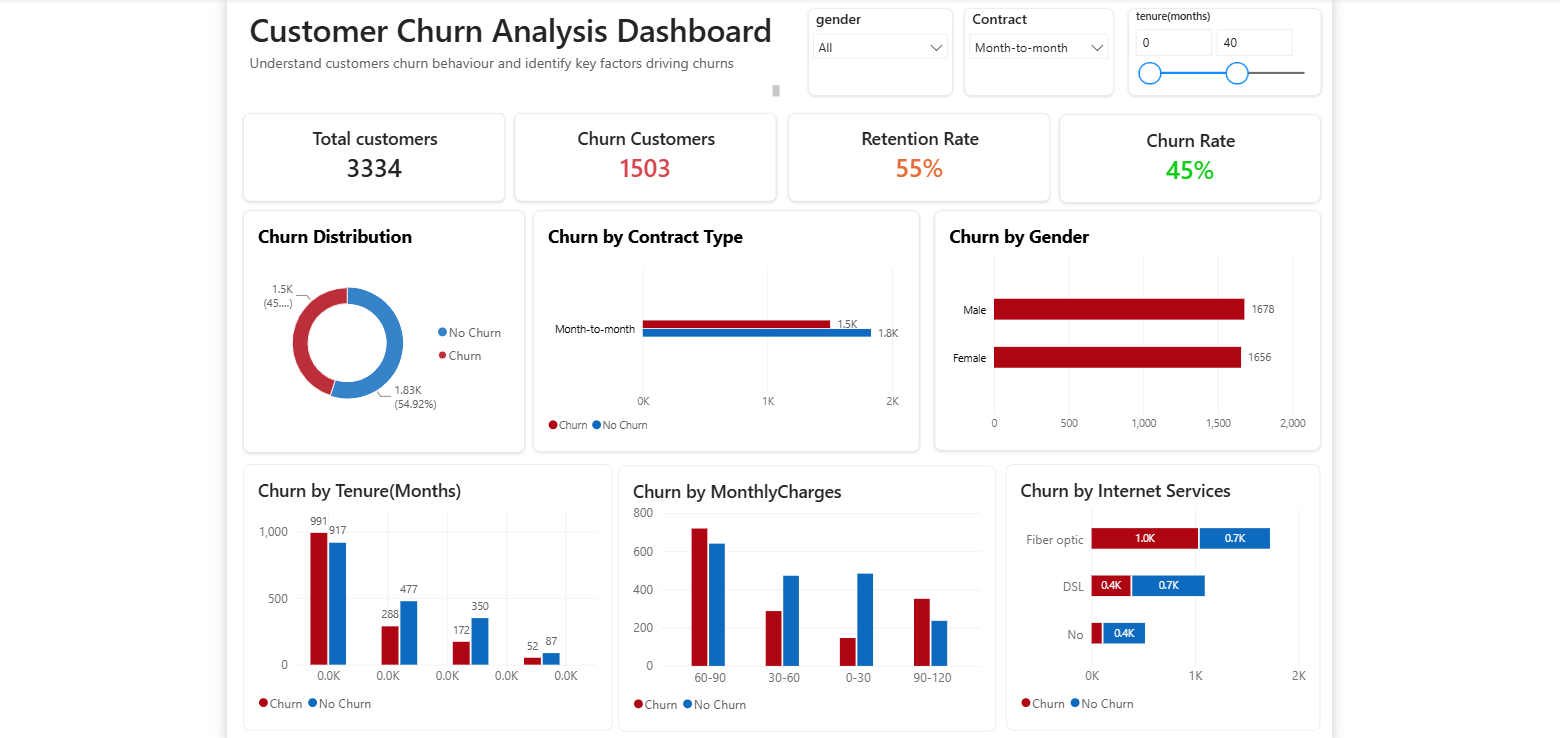

The page's visual inventory and layout, read from the dashboard file:
{"tool":"powerbi","page":{"name":"Page 1","canvas":[1260,850],"ordinal":0},"visuals":[{"type":"donutChart","title":"Churn Distribution","fields":{"Category":["churn_final.Column"],"Y":["CountNonNull(churn_final.customerID)"]},"box":[18.3,241.7,311.7,273.3],"z":0},{"type":"card","title":"Total customers","fields":{"Values":["CountNonNull(churn_final.customerID)"]},"box":[17.9,131.5,298.7,100.6],"z":1000},{"type":"clusteredBarChart","fields":{"Category":["churn_final.Contract"],"Series":["churn_final.Column"],"Y":["CountNonNull(churn_final.customerID)"]},"box":[348.3,241.7,440,275],"z":2000},{"type":"barChart","title":"Churn by Gender","fields":{"Category":["churn_final.gender"],"Y":["CountNonNull(churn_final.customerID)"]},"box":[806.7,241.7,440,273.3],"z":3000},{"type":"textbox","box":[0,0,662.3,61.7],"z":6000},{"type":"lineChart","title":"Churn by Tenure(Months)","fields":{"Category":["churn_final.tenure"],"Series":["churn_final.churn_status"],"Y":["CountNonNull(churn_final.customerID)"]},"box":[17.9,530.8,420.4,303.6],"z":8000},{"type":"areaChart","title":"Churn by MonthlyCharges","fields":{"Category":["churn_final.MonthlyCharges"],"Series":["churn_final.churn_status"],"Y":["CountNonNull(churn_final.customerID)"]},"box":[446.4,532.4,430.2,303.6],"z":9000},{"type":"barChart","title":"Churn by Internet Services","fields":{"Category":["churn_final.InternetService"],"Series":["churn_final.churn_status"],"Y":["churn_final.Measure"]},"box":[888,530.8,358.8,303.6],"z":10000},{"type":"textbox","title":"Customer Churn Analysis Dashboard","box":[26,11.4,603.9,100.6],"z":13000},{"type":"slicer","fields":{"Values":["churn_final.gender"]},"box":[661.7,11.7,165,100],"z":14000},{"type":"slicer","fields":{"Values":["churn_final.Contract"]},"box":[840,11.7,170,100],"z":14001},{"type":"slicer","fields":{"Values":["churn_final.tenure"]},"box":[1026.7,11.7,220,100],"z":14002},{"type":"card","title":"Churn Customers","fields":{"Values":["churn_final.Churn Customers"]},"box":[327.9,131.5,298.7,100.6],"z":14003},{"type":"card","title":"Retention Rate","fields":{"Values":["churn_final.Retention_Rate"]},"box":[639.6,131.5,298.7,100.6],"z":14004},{"type":"card","title":"Churn Rate","fields":{"Values":["churn_final.Churn Rate"]},"box":[948,131.5,298.7,100.6],"z":14005}]}

Visuals, with their boxes on the page's 1260x850 design canvas (x1, y1, x2, y2). These are canvas units, not pixel positions in the 1560x738 screenshot, which may show the page scaled, cropped or inside an application window:
"Churn Distribution" donutChart: detection(18, 242, 330, 515)
"Total customers" card: detection(18, 132, 317, 232)
clusteredBarChart - churn_final.Contract x churn_final.Column: detection(348, 242, 788, 517)
"Churn by Gender" barChart: detection(807, 242, 1247, 515)
textbox: detection(0, 0, 662, 62)
"Churn by Tenure(Months)" lineChart: detection(18, 531, 438, 834)
"Churn by MonthlyCharges" areaChart: detection(446, 532, 877, 836)
"Churn by Internet Services" barChart: detection(888, 531, 1247, 834)
"Customer Churn Analysis Dashboard" textbox: detection(26, 11, 630, 112)
slicer - churn_final.gender: detection(662, 12, 827, 112)
slicer - churn_final.Contract: detection(840, 12, 1010, 112)
slicer - churn_final.tenure: detection(1027, 12, 1247, 112)
"Churn Customers" card: detection(328, 132, 627, 232)
"Retention Rate" card: detection(640, 132, 938, 232)
"Churn Rate" card: detection(948, 132, 1247, 232)
